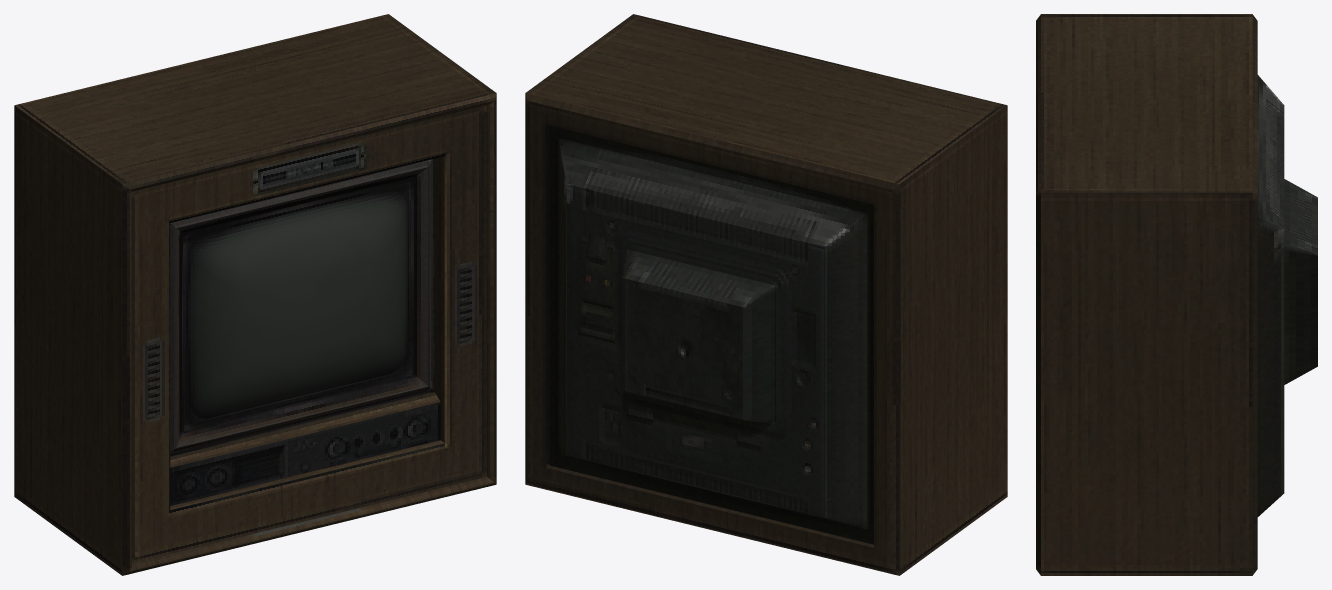
The picture shows the model from 3 angles, left to right: view 1: azimuth 30°, elevation 25°; view 2: azimuth 150°, elevation 25°; view 3: azimuth 270°, elevation 25°; orthographic projection. The views are drawn at different scales.
Parts seen in each view (by area): view 1: tv_mp_1_2; view 2: tv_mp_1_2; view 3: tv_mp_1_2.
Part boxes in pixels (x1=…): tv_mp_1_2: x1=14, y1=14, x2=496, y2=575; tv_mp_1_2: x1=525, y1=14, x2=1007, y2=575; tv_mp_1_2: x1=1036, y1=14, x2=1317, y2=575.
Bounding box in the file's own units: 0.63 × 0.63 × 0.42.
Materials: 2 (2 with a texture image).
